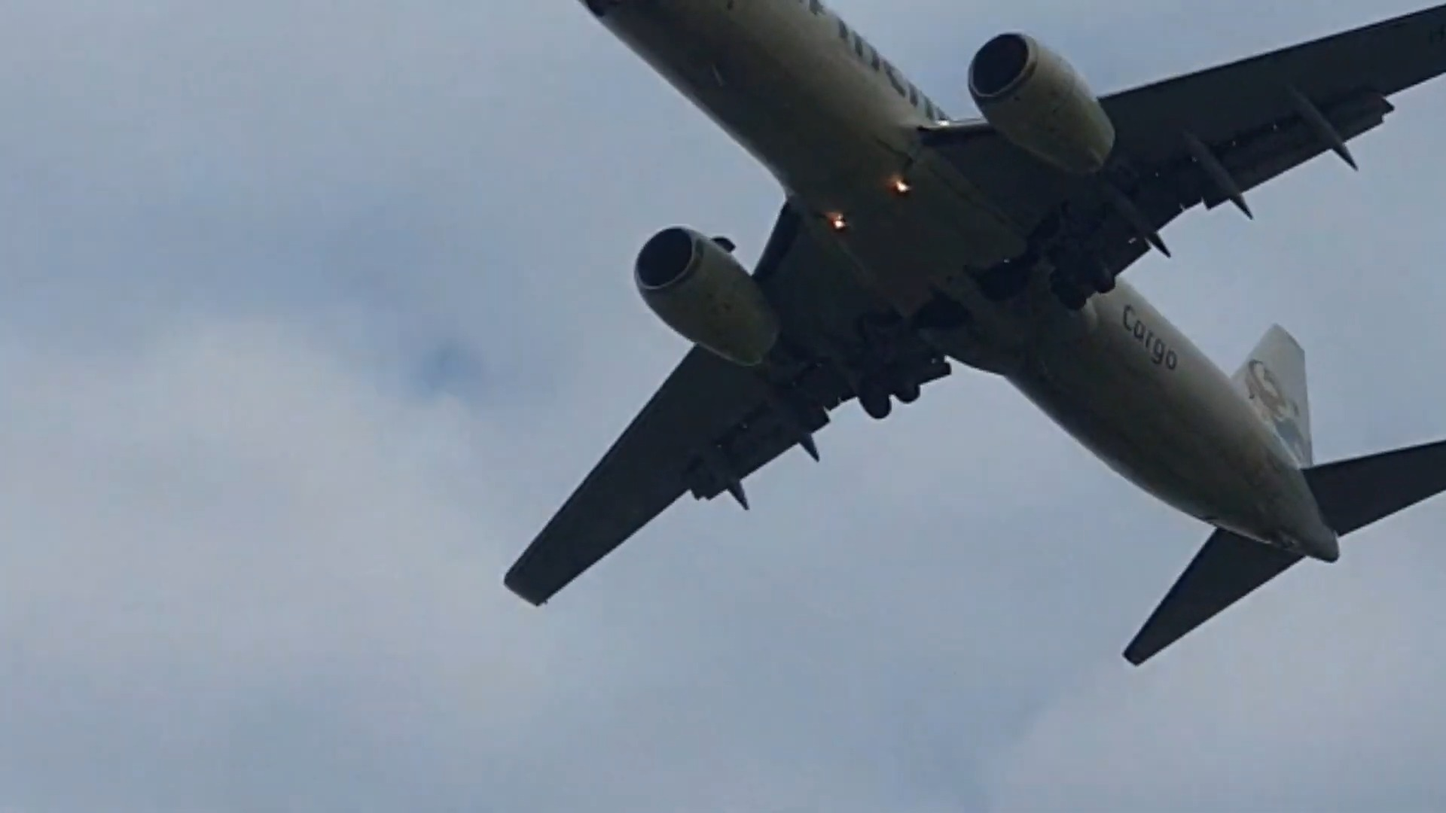airplane: (460, 0, 1446, 668)
